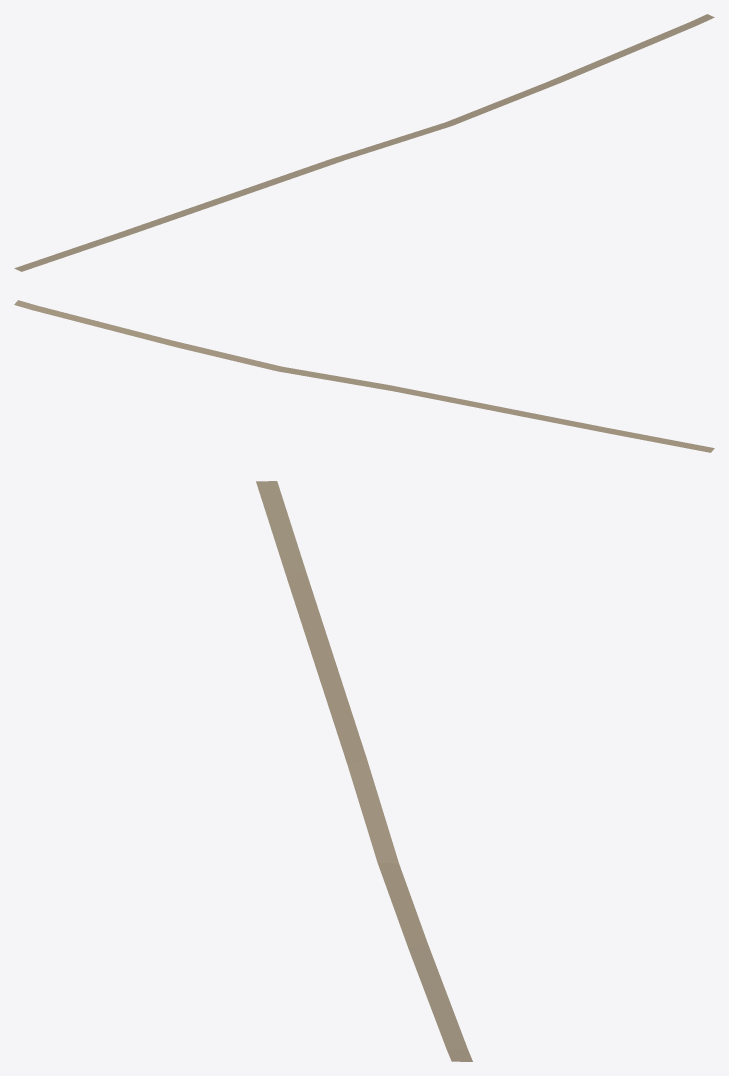
Rendered from farm_-10_-8_track.glb.
3 renders of one model, top to bottom at view 1: azimuth 30°, elevation 25°; view 2: azimuth 150°, elevation 25°; view 3: azimuth 270°, elevation 25°, orthographic. The views are drawn at different scales.
Visible parts, largest first — view 1: geometry_0; view 2: geometry_0; view 3: geometry_0.
Boxes of the visible parts, bbox=[...] form: geometry_0: bbox=[14, 14, 714, 271]; geometry_0: bbox=[14, 300, 714, 452]; geometry_0: bbox=[256, 481, 472, 1061].
Bounding box in the file's own units: 228 × 8.86 × 33.02.
